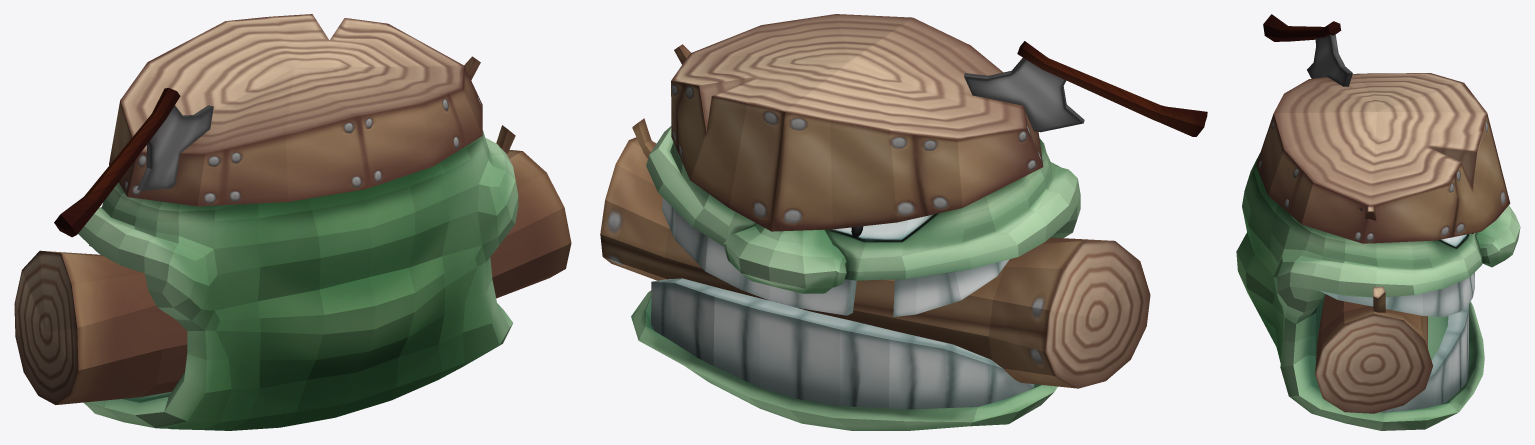
Rendered from treekiller_head.glb.
3 views of the same model, side by side, from view 1: azimuth 30°, elevation 25°; view 2: azimuth 150°, elevation 25°; view 3: azimuth 270°, elevation 25° (orthographic). The views are drawn at different scales.
Parts seen in each view (by area): view 1: Object; view 2: Object; view 3: Object.
Boxes of the visible parts, <box> form: Object: <box>14,14,571,430</box>; Object: <box>600,14,1207,430</box>; Object: <box>1236,14,1520,430</box>.
Bounding box in the file's own units: 2.91 × 1.97 × 1.63.
Materials: 1 (1 with a texture image).
